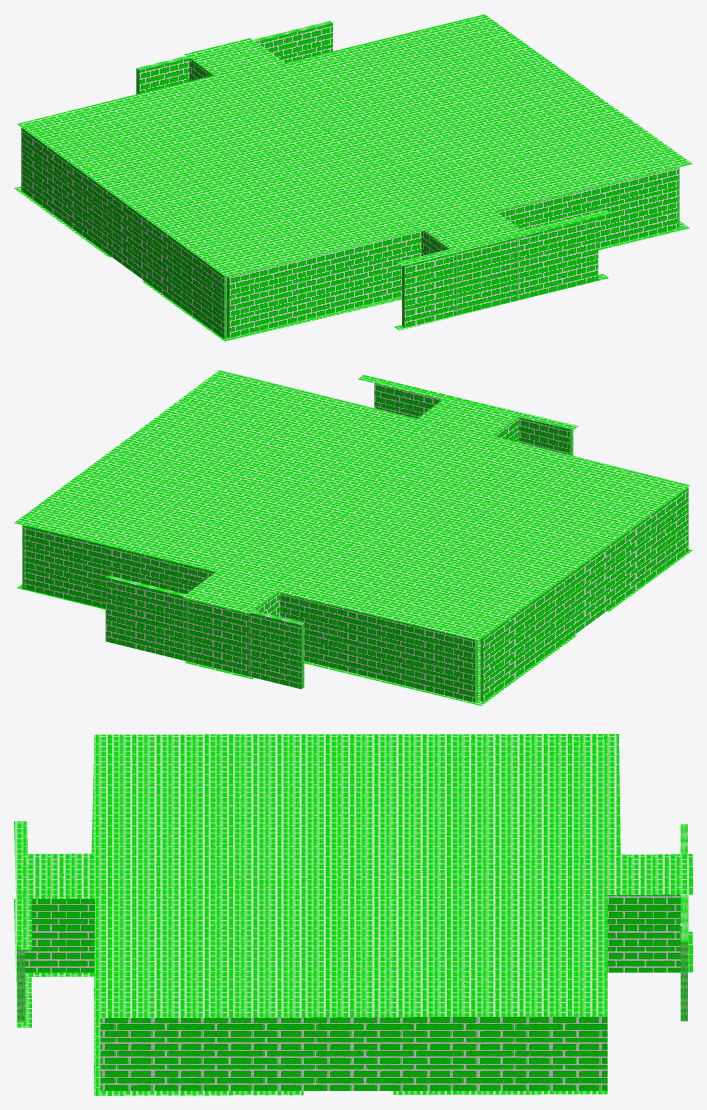
File: 1-2_col.obj
The picture shows the model from 3 angles, top to bottom: view 1: azimuth 30°, elevation 25°; view 2: azimuth 150°, elevation 25°; view 3: azimuth 270°, elevation 25°; orthographic projection. The views are drawn at different scales.
Visible parts, largest first — view 1: Plane.001, Cube.002_Cube.004, Cube.010_Cube.014, Cube.005_Cube.009, Cube.004_Cube.008, Cube.011_Cube.015, Plane, Cube_Cube.002; view 2: Plane.001, Cube.002_Cube.004, Cube.011_Cube.015, Cube.007_Cube.011, Cube.006_Cube.010, Cube.010_Cube.014, Plane, Cube.008_Cube.012; view 3: Plane.001, Cube.003_Cube.007, Cube.009_Cube.013, Cube.001_Cube.003, Plane, Cube.011_Cube.015, Cube.010_Cube.014.
Boxes of the visible parts, x1,y1,x2,y2 form: Plane.001: (17, 14, 692, 277); Cube.002_Cube.004: (21, 127, 226, 339); Cube.010_Cube.014: (402, 217, 598, 327); Cube.005_Cube.009: (227, 231, 421, 337); Cube.004_Cube.008: (497, 167, 678, 247); Cube.011_Cube.015: (136, 21, 332, 94); Plane: (14, 186, 689, 341); Cube_Cube.002: (421, 230, 457, 315); Plane.001: (14, 370, 689, 640); Cube.002_Cube.004: (480, 487, 688, 701); Cube.011_Cube.015: (105, 575, 304, 689); Cube.007_Cube.011: (280, 593, 477, 702); Cube.006_Cube.010: (25, 526, 215, 608); Cube.010_Cube.014: (374, 383, 573, 455); Plane: (17, 549, 692, 705); Cube.008_Cube.012: (248, 592, 280, 676); Plane.001: (14, 734, 692, 1018); Cube.003_Cube.007: (100, 1016, 607, 1090); Cube.009_Cube.013: (607, 894, 688, 972); Cube.001_Cube.003: (17, 899, 94, 972); Plane: (14, 899, 692, 1095); Cube.011_Cube.015: (680, 824, 687, 1021); Cube.010_Cube.014: (17, 950, 24, 1021).
Size of what is drawn, in the model's own units: 49.7 by 7.18 by 49.9.
